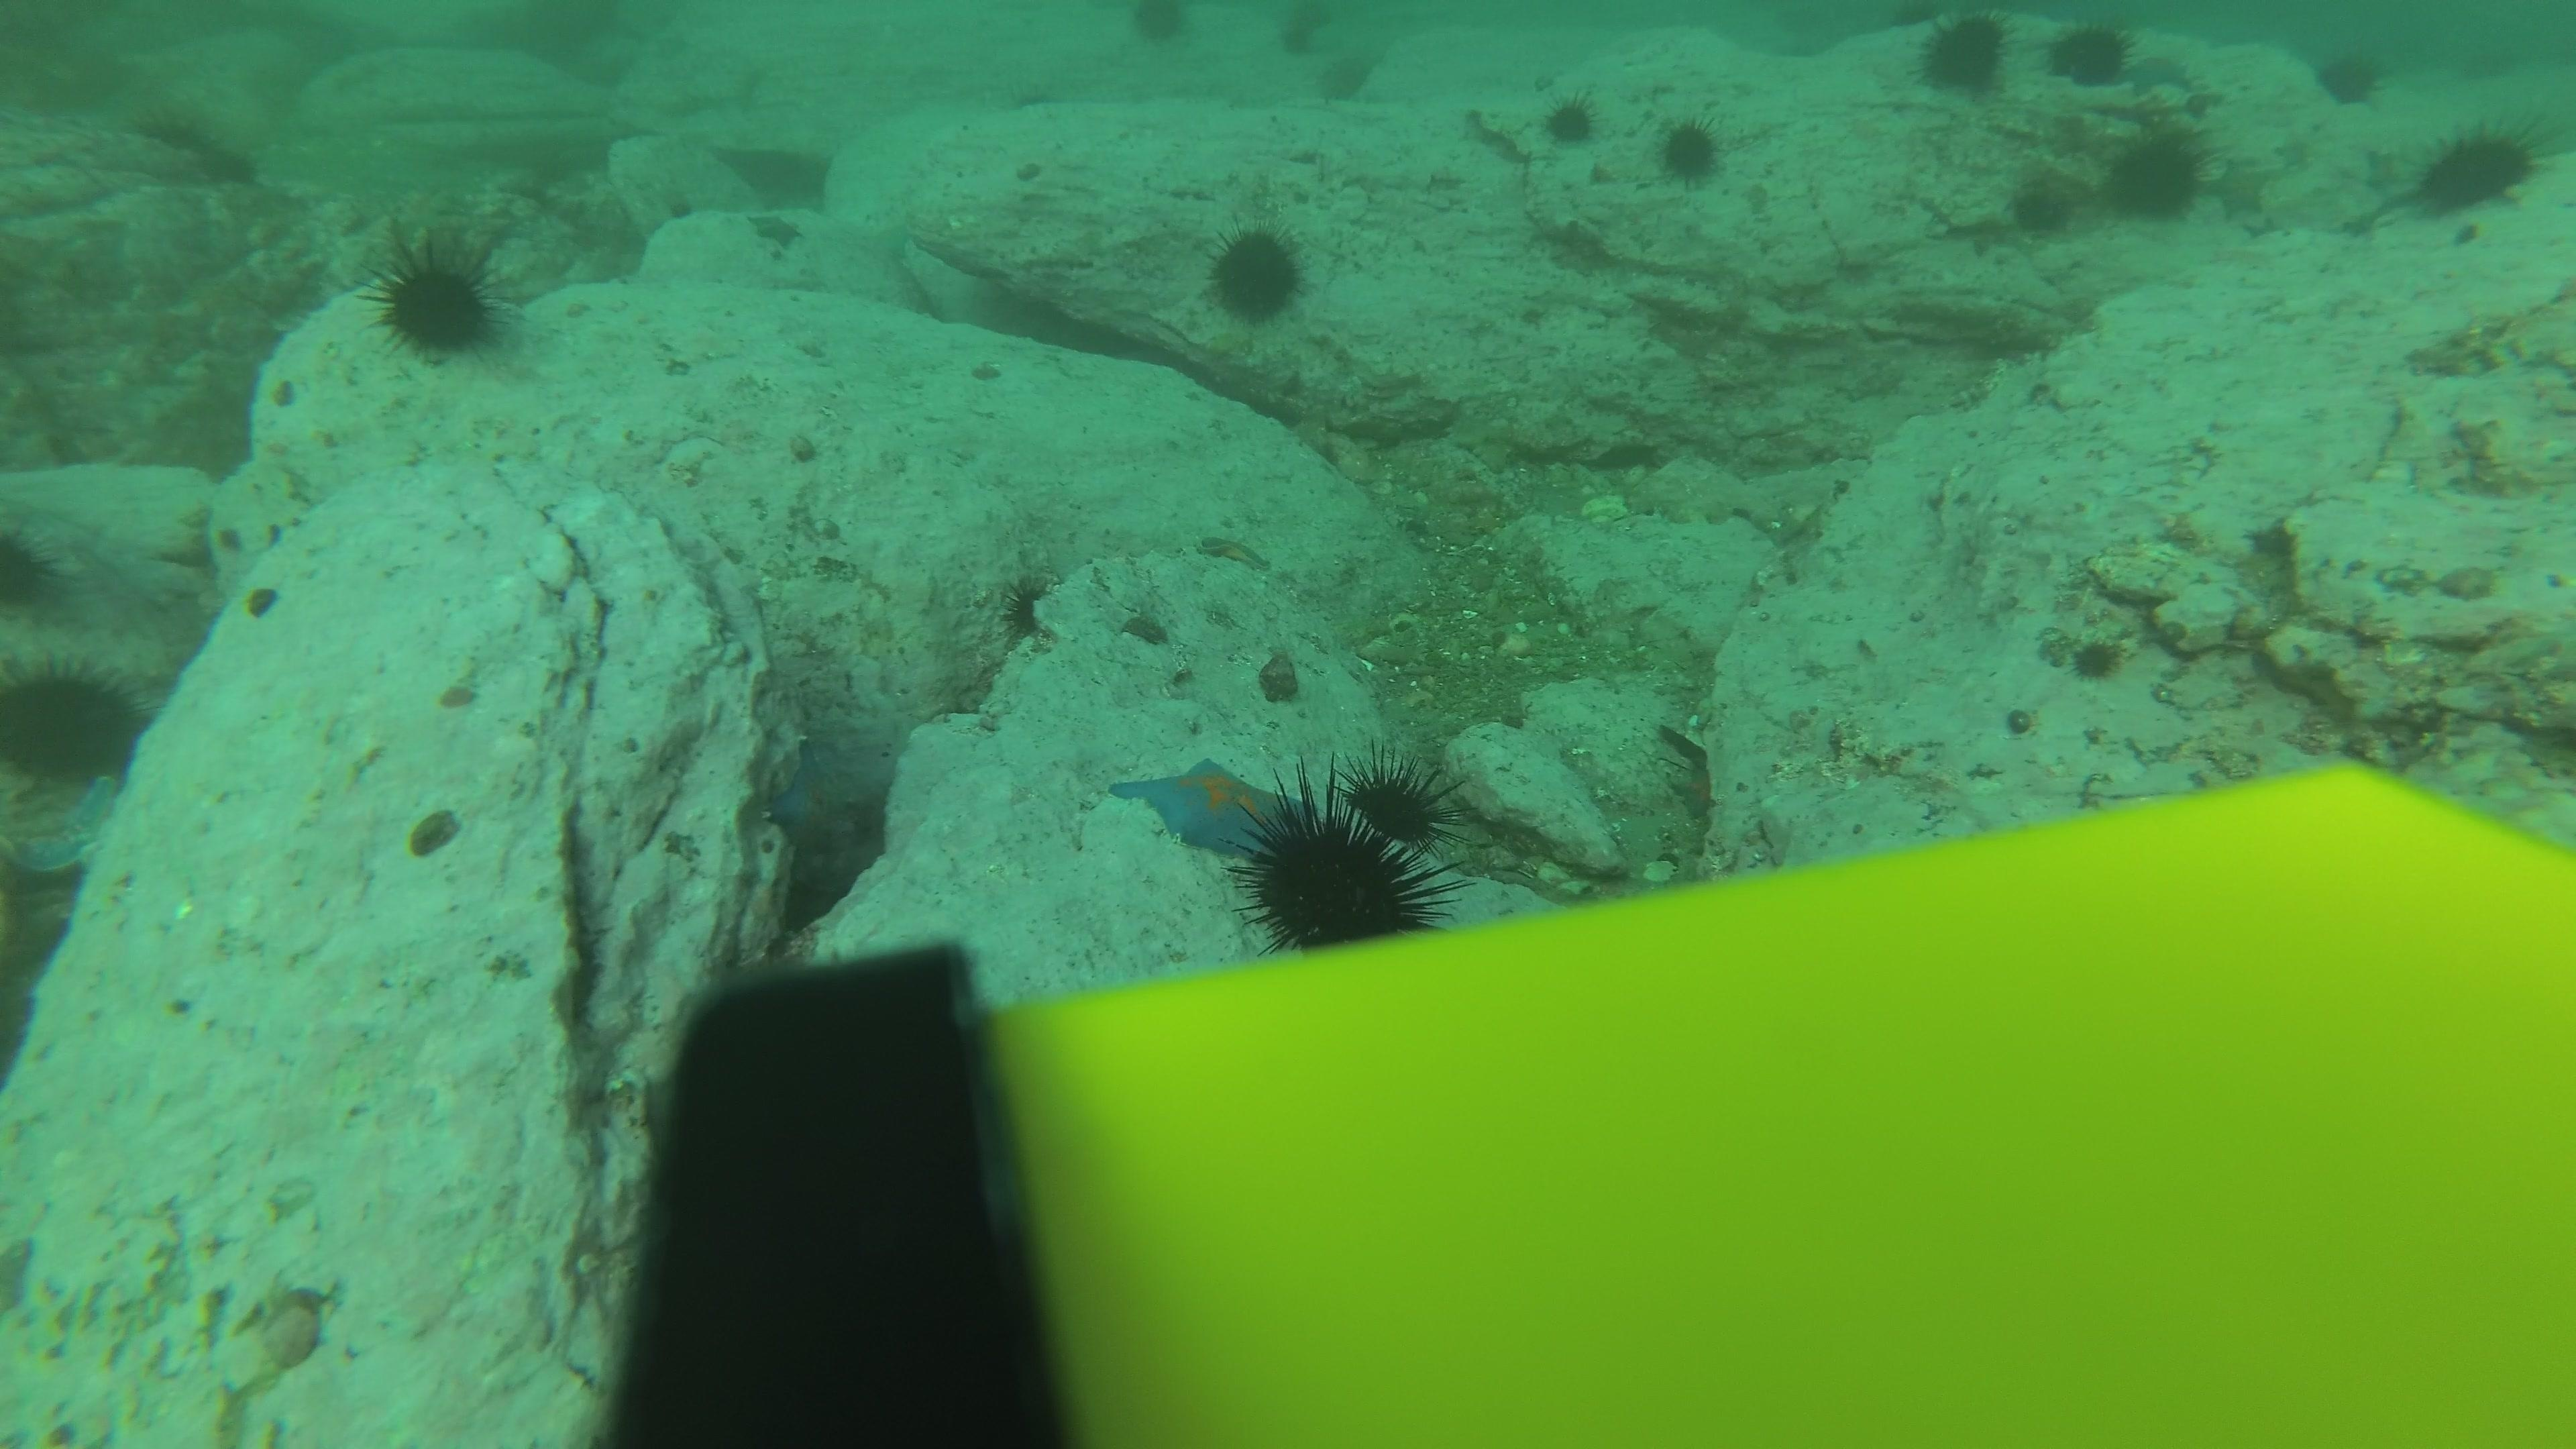echinus: (1233, 786, 1454, 950), (2, 653, 150, 791), (368, 235, 511, 364), (1191, 209, 1318, 329), (2404, 117, 2542, 221), (1338, 754, 1456, 851), (2102, 124, 2212, 225), (1911, 9, 2015, 101), (2043, 19, 2137, 92), (0, 522, 67, 623), (1652, 111, 1729, 188), (1108, 0, 1196, 58), (2005, 170, 2079, 239), (2312, 44, 2388, 108), (1258, 0, 1339, 57), (1001, 573, 1060, 644), (1541, 90, 1599, 149)
starfish: (1108, 754, 1297, 862), (759, 729, 879, 862), (5, 763, 127, 885), (2210, 157, 2277, 225), (1194, 525, 1277, 577), (2121, 46, 2199, 97), (747, 209, 807, 255), (2273, 131, 2323, 175), (2360, 147, 2408, 189)
